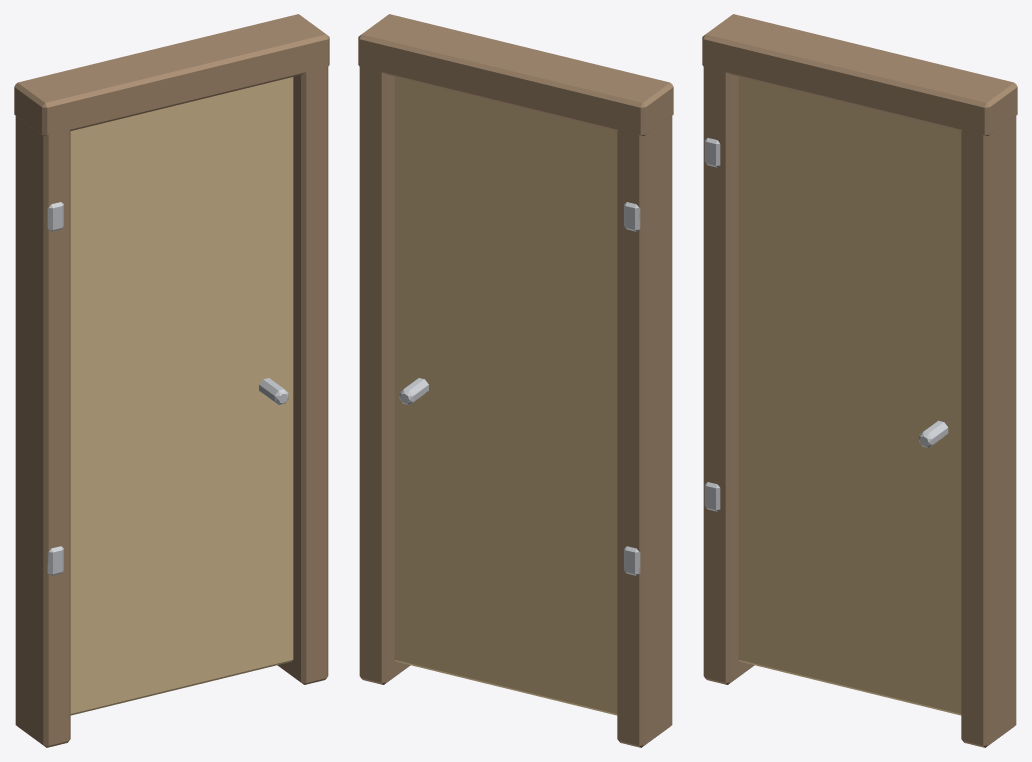
Rendered from 构件_单开门_01.fbx.
The picture shows the model from 3 angles, left to right: view 1: azimuth 30°, elevation 25°; view 2: azimuth 150°, elevation 25°; view 3: azimuth 330°, elevation 25°; orthographic projection.
Visible parts, largest first — view 1: 门扇, 门框.001, 合页; view 2: 门扇, 门框.001, 合页; view 3: 门扇, 门框.001, 合页.
Boxes of the visible parts, <box> form: 门扇: <box>70,77,293,715</box>; 门框.001: <box>14,14,329,747</box>; 合页: <box>47,202,63,575</box>; 门扇: <box>394,77,617,715</box>; 门框.001: <box>358,14,673,747</box>; 合页: <box>624,202,640,575</box>; 门扇: <box>738,77,961,715</box>; 门框.001: <box>702,14,1017,747</box>; 合页: <box>704,138,720,511</box>.
Size of the model in its own units: 105 by 225 by 30.
